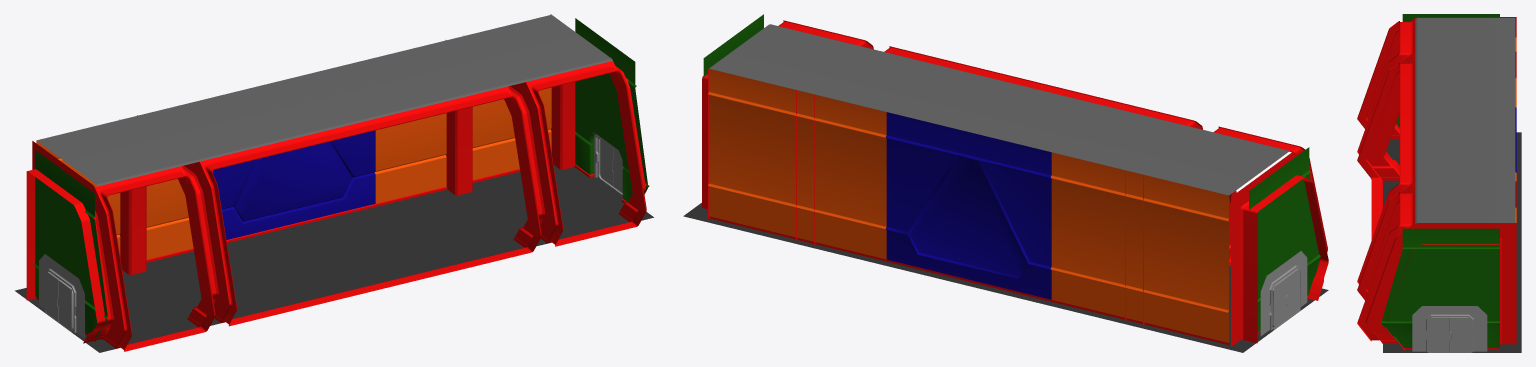
File: 0-2Edit.fbx
The picture shows the model from 3 angles, left to right: view 1: azimuth 30°, elevation 25°; view 2: azimuth 150°, elevation 25°; view 3: azimuth 270°, elevation 25°; orthographic projection. The views are drawn at different scales.
Parts seen in each view (by area): view 1: 1, ceiling, floor, 2, 3, 4, DoorWall, corridorDoorRight01, corriodrDoorLeft01, corriodrDoorLeft02; view 2: 2, ceiling, 3, 1, 4, floor, DoorWall, corridorDoorRight01, corriodrDoorLeft01; view 3: ceiling, 1, 4, floor, DoorWall, corridorDoorRight02, corriodrDoorLeft02.
Boxes of the visible parts, x1,y1,x2,y2 form: 1: (26, 14, 646, 351); ceiling: (36, 14, 612, 186); floor: (15, 165, 653, 352); 2: (36, 87, 551, 259); 3: (212, 130, 375, 239); 4: (34, 18, 649, 339); DoorWall: (39, 133, 622, 338); corridorDoorRight01: (57, 280, 71, 332); corriodrDoorLeft01: (45, 270, 58, 322); corriodrDoorLeft02: (600, 137, 613, 186); 2: (708, 68, 1228, 342); ceiling: (709, 24, 1289, 195); 3: (885, 112, 1051, 299); 1: (702, 20, 1328, 346); 4: (703, 14, 1320, 331); floor: (683, 203, 1328, 352); DoorWall: (1260, 251, 1307, 336); corridorDoorRight01: (1286, 268, 1300, 319); corriodrDoorLeft01: (1274, 277, 1287, 329); ceiling: (1415, 18, 1515, 223); 1: (1357, 17, 1516, 350); 4: (1381, 14, 1499, 347); floor: (1383, 132, 1521, 352); DoorWall: (1412, 306, 1487, 352); corridorDoorRight02: (1428, 318, 1451, 352); corriodrDoorLeft02: (1450, 318, 1471, 352).
Size of the model in its own units: 3141 by 800 by 982.
